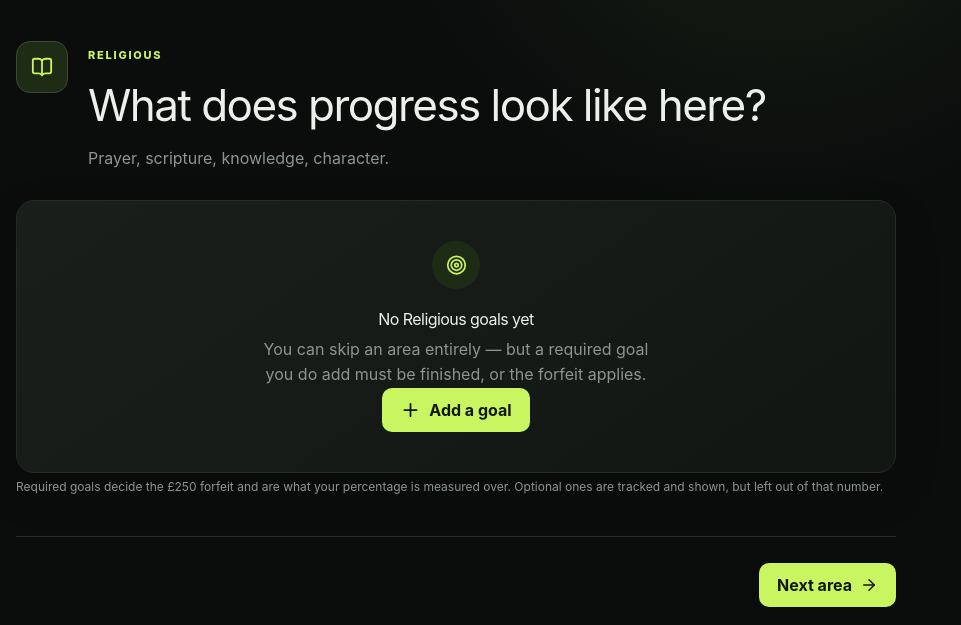
Test: goal wizard › walks all five categories and ends on the review step
(page scrolled)
Expected: the heading "What does progress look like here?" is shown, [88,72,766,138]
Expected: the text "Prayer, scripture, knowledge, character." is shown, [88,148,389,168]
Click the button "Next area" at (828, 585), box [759,563,896,607]
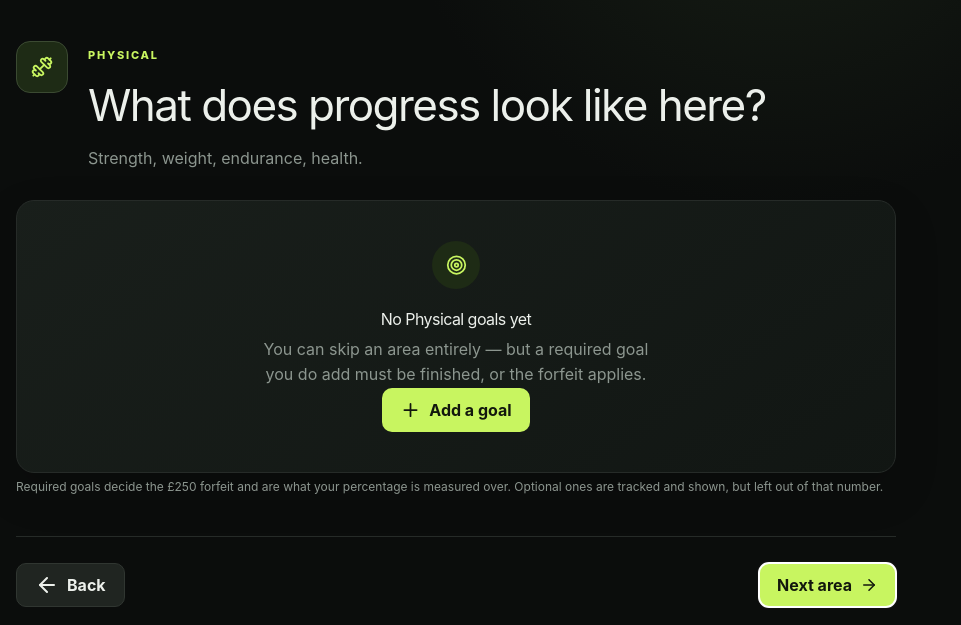
Result: the text "Strength, weight, endurance, health." is shown at [88,148,363,168]
Click the button "Next area" at (828, 585), box [759,563,896,607]
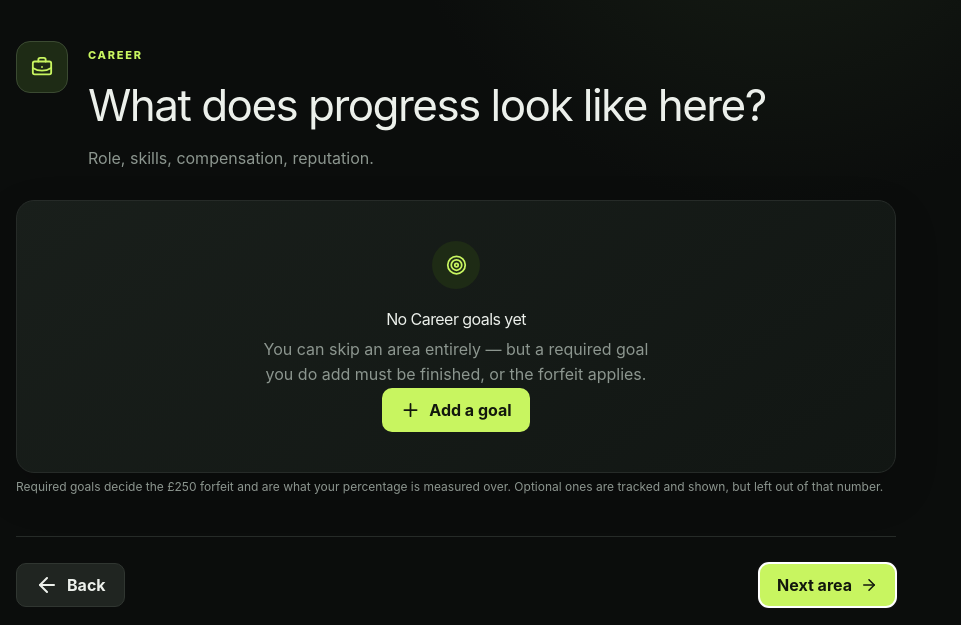
Click the button "Next area" at (828, 585), box [759,563,896,607]
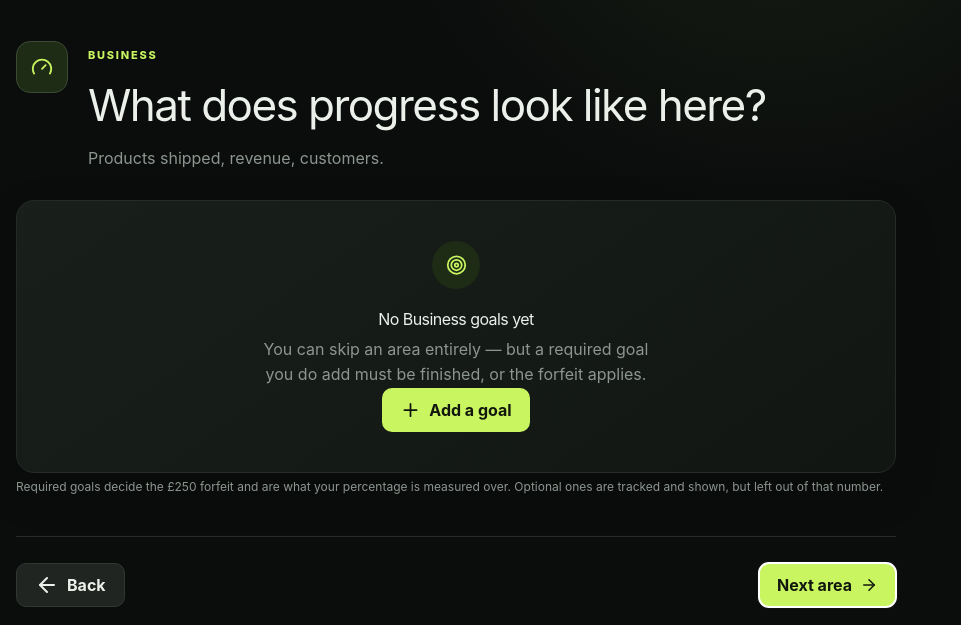
Click the button "Next area" at (828, 585), box [759,563,896,607]
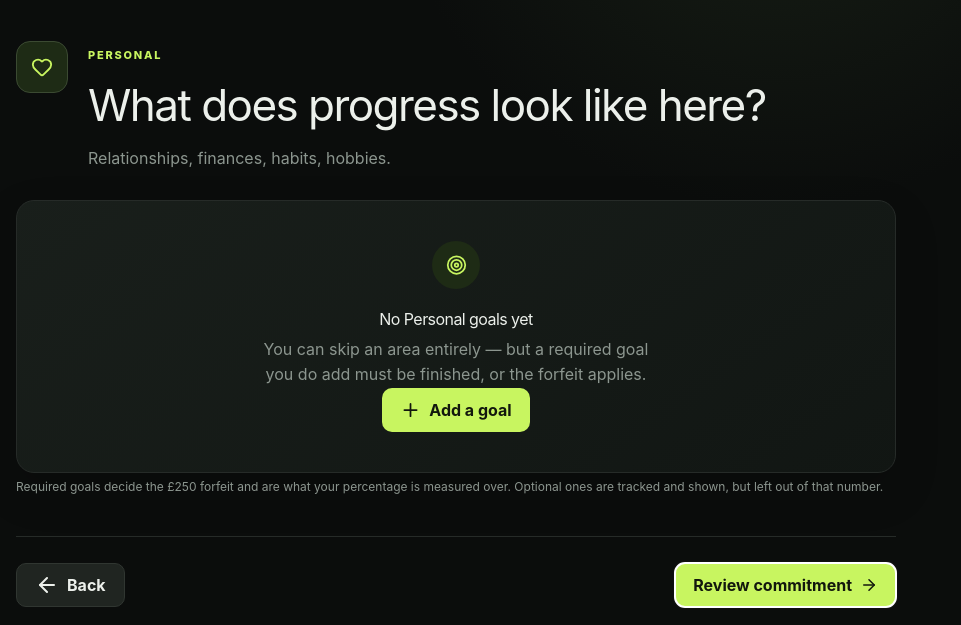
Click the button "Review commitment" at (786, 585), box [675,563,896,607]
(page scrolled)
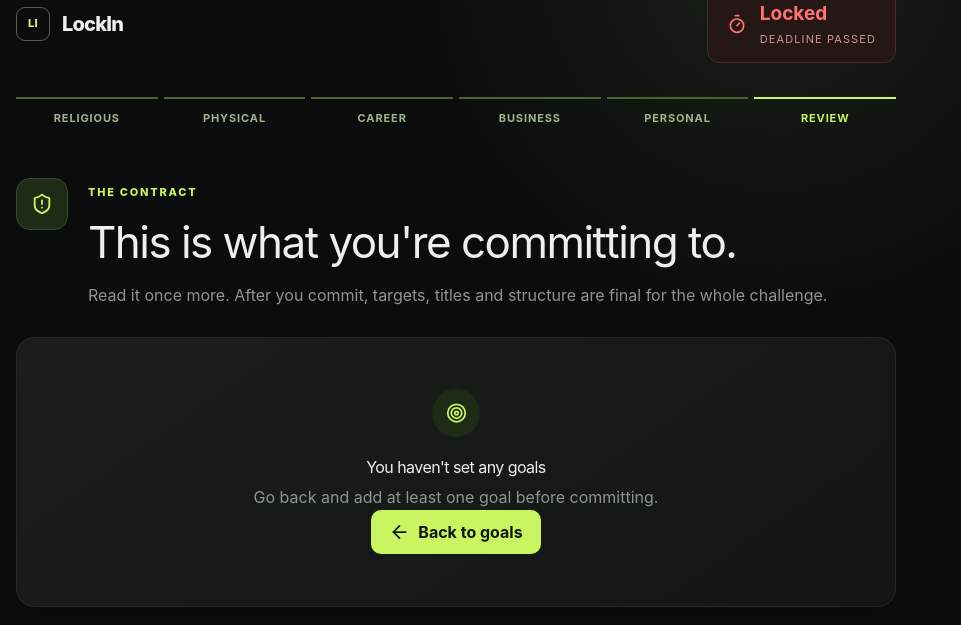
Result: the heading "This is what you're committing to." is shown at [88,208,828,274]
